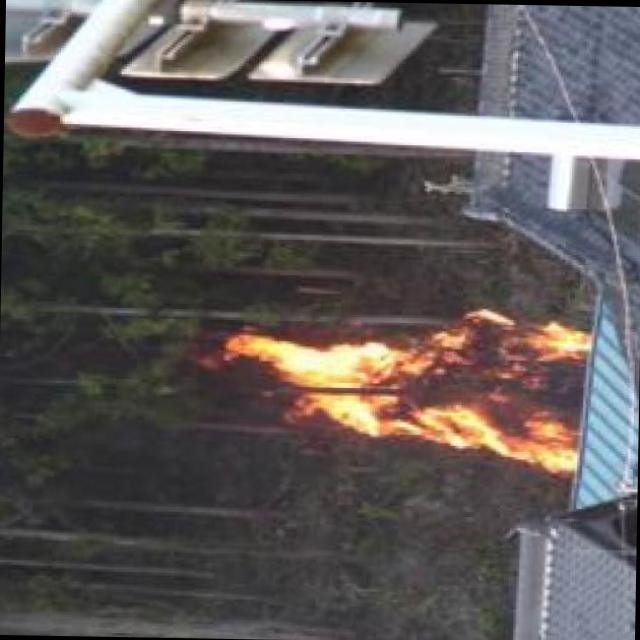Fire: (239, 307, 594, 463)
